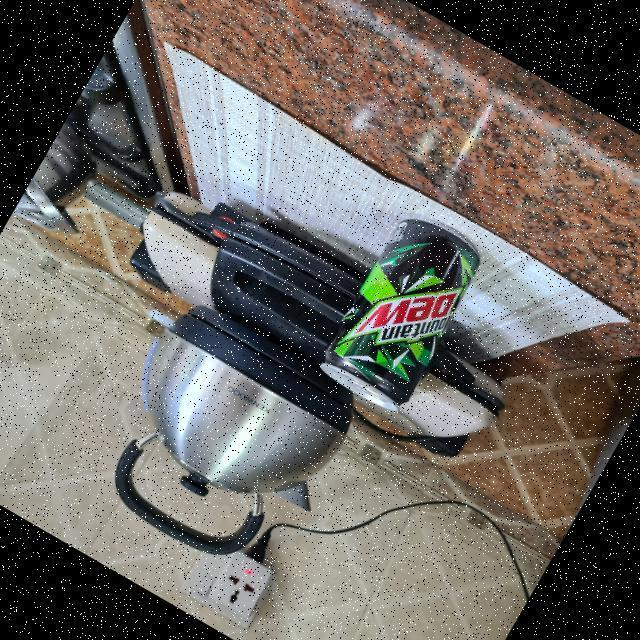can: (302, 190, 505, 426)
